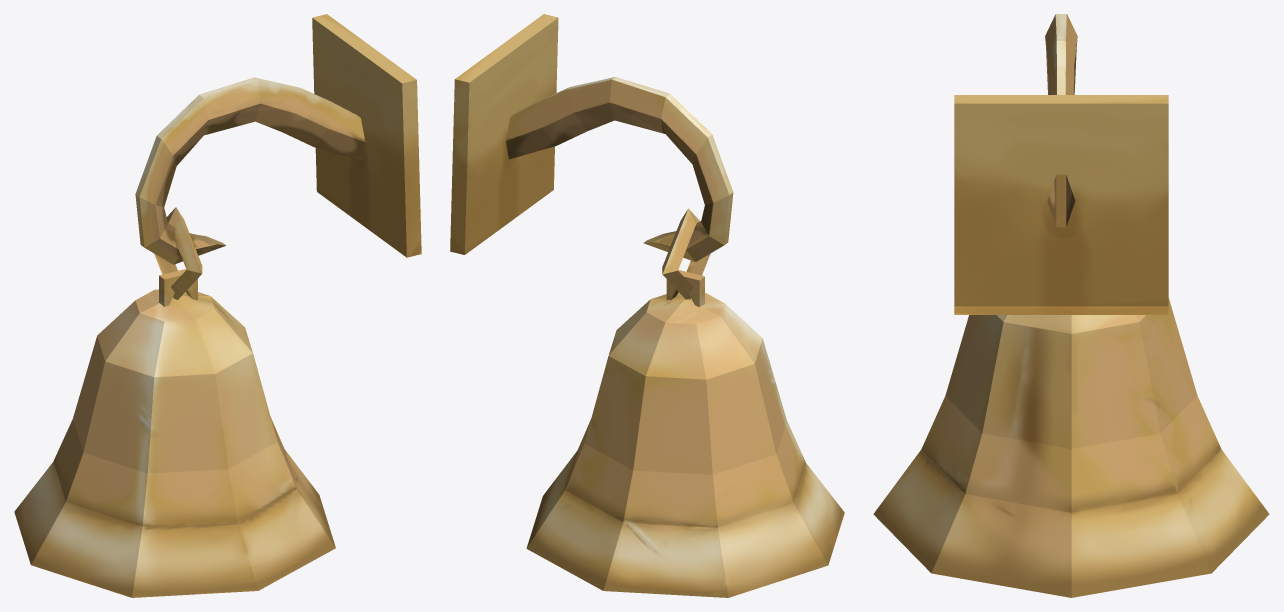
Rendered from bell.fbx.
3 views of the same model, side by side, from view 1: azimuth 30°, elevation 25°; view 2: azimuth 150°, elevation 25°; view 3: azimuth 270°, elevation 25° (orthographic). The views are drawn at different scales.
Visible parts, largest first — view 1: sino; view 2: sino; view 3: sino.
Boxes of the visible parts, bbox=[...] form: sino: bbox=[14, 14, 421, 597]; sino: bbox=[450, 14, 844, 597]; sino: bbox=[873, 14, 1269, 597].
Bounding box in the file's own units: 15.72 × 21.13 × 13.28.
